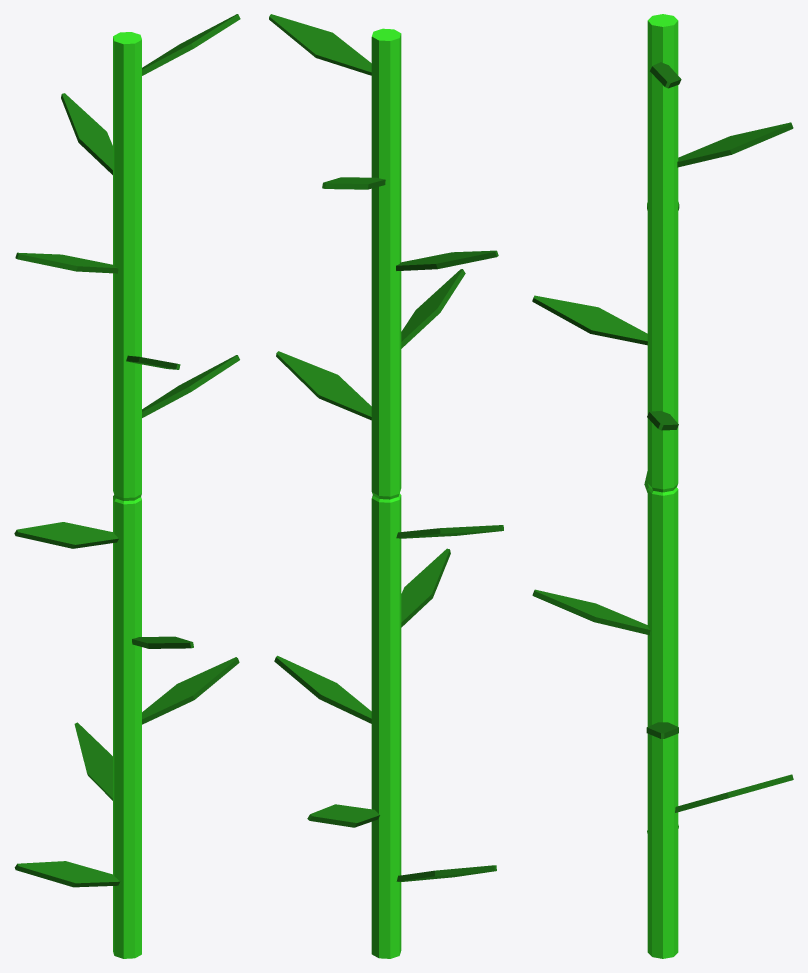
The model's file is Cane.fbx.
The picture shows the model from 3 angles, left to right: view 1: azimuth 30°, elevation 25°; view 2: azimuth 150°, elevation 25°; view 3: azimuth 270°, elevation 25°; orthographic projection.
Parts seen in each view (by area): view 1: Cylinder.001, Cylinder, Cube.002, Cube.001, Cube, Cube.009, Cube.003, Cube.007, Cube.005, Cube.006, Cube.004; view 2: Cylinder.001, Cylinder, Cube.006, Cube.005, Cube.002, Cube.004, Cube.008, Cube.007, Cube.003, Cube.001, Cube, Cube.009; view 3: Cylinder, Cylinder.001, Cube.008, Cube.004, Cube.009, Cube.003.
Part boxes in pixels (bbox=[...]): Cylinder.001: bbox=[113, 32, 141, 500]; Cylinder: bbox=[113, 495, 141, 958]; Cube.002: bbox=[142, 657, 239, 724]; Cube.001: bbox=[14, 522, 118, 548]; Cube: bbox=[14, 861, 119, 887]; Cube.009: bbox=[61, 93, 112, 174]; Cube.003: bbox=[74, 722, 112, 800]; Cube.007: bbox=[15, 252, 118, 273]; Cube.005: bbox=[142, 355, 239, 417]; Cube.006: bbox=[142, 14, 240, 75]; Cube.004: bbox=[132, 636, 193, 648]; Cylinder.001: bbox=[371, 28, 401, 499]; Cylinder: bbox=[371, 493, 401, 958]; Cube.006: bbox=[269, 14, 371, 75]; Cube.005: bbox=[276, 351, 371, 420]; Cube.002: bbox=[274, 655, 371, 723]; Cube.004: bbox=[401, 548, 450, 627]; Cube.008: bbox=[401, 269, 465, 348]; Cube.007: bbox=[396, 250, 498, 270]; Cube.003: bbox=[307, 804, 379, 827]; Cube.001: bbox=[396, 525, 503, 538]; Cube: bbox=[396, 865, 496, 882]; Cube.009: bbox=[322, 177, 385, 189]; Cylinder: bbox=[647, 487, 678, 958]; Cylinder.001: bbox=[647, 14, 678, 492]; Cube.008: bbox=[532, 295, 647, 345]; Cube.004: bbox=[532, 589, 650, 635]; Cube.009: bbox=[677, 122, 793, 167]; Cube.003: bbox=[675, 774, 793, 812].
Bounding box in the file's own units: 105 × 400 × 102.
